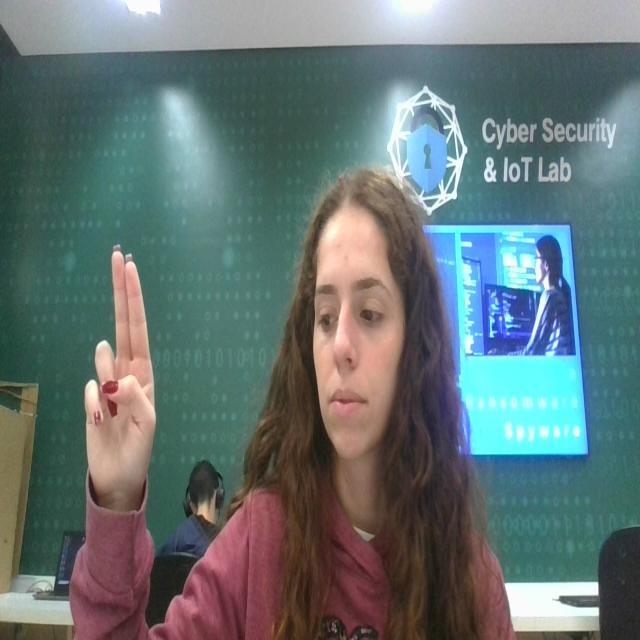U: (82, 246, 162, 510)
